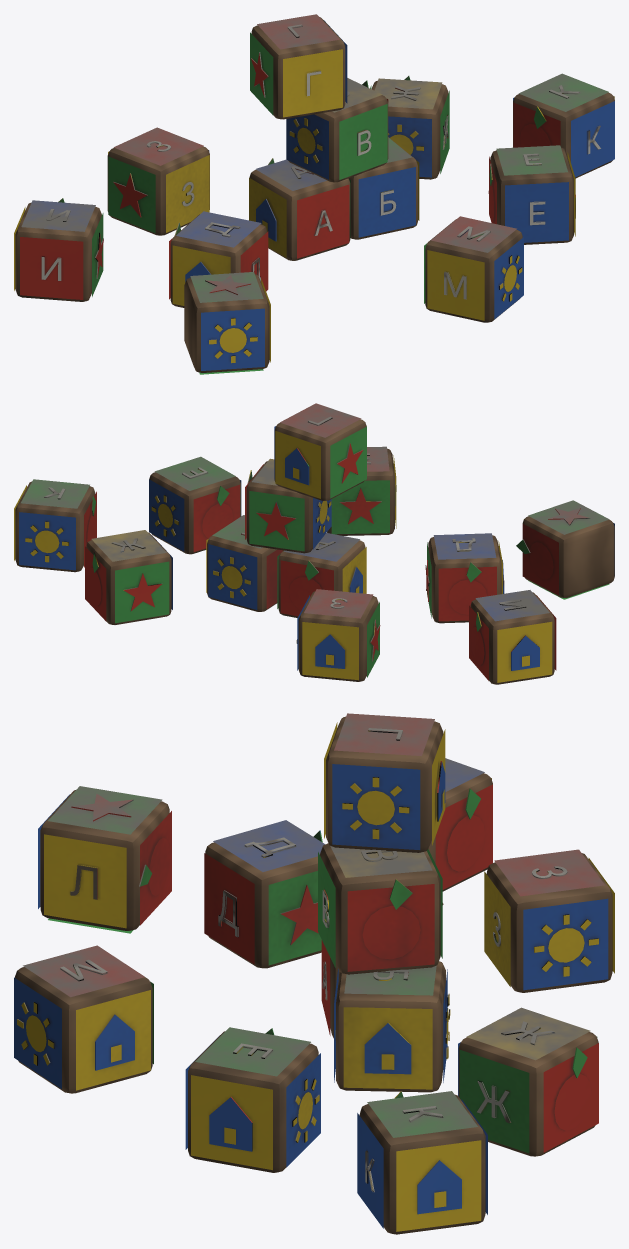
File: SM_ToyBlocks_Set.fbx
3 renders of one model, top to bottom at view 1: azimuth 30°, elevation 25°; view 2: azimuth 150°, elevation 25°; view 3: azimuth 270°, elevation 25°, orthographic. The views are drawn at different scales.
Parts seen in each view (by area): view 1: SM_ToyBlocks_Set; view 2: SM_ToyBlocks_Set; view 3: SM_ToyBlocks_Set.
Part boxes in pixels (x1,y1,x2,y2): SM_ToyBlocks_Set: (14, 14, 614, 374); SM_ToyBlocks_Set: (14, 403, 614, 684); SM_ToyBlocks_Set: (14, 713, 614, 1234).
Size of the model in its own units: 0.4441 by 0.153 by 0.2839.
Materials: 1 (1 with a texture image).
